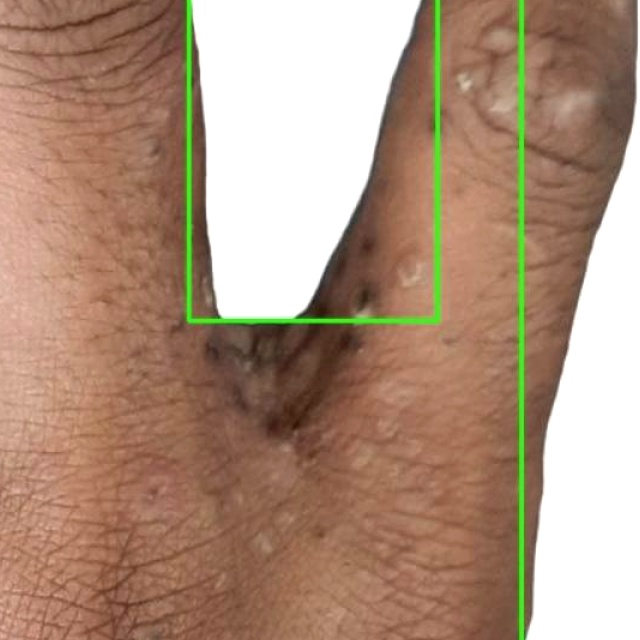Scabies: (187, 0, 436, 320)
